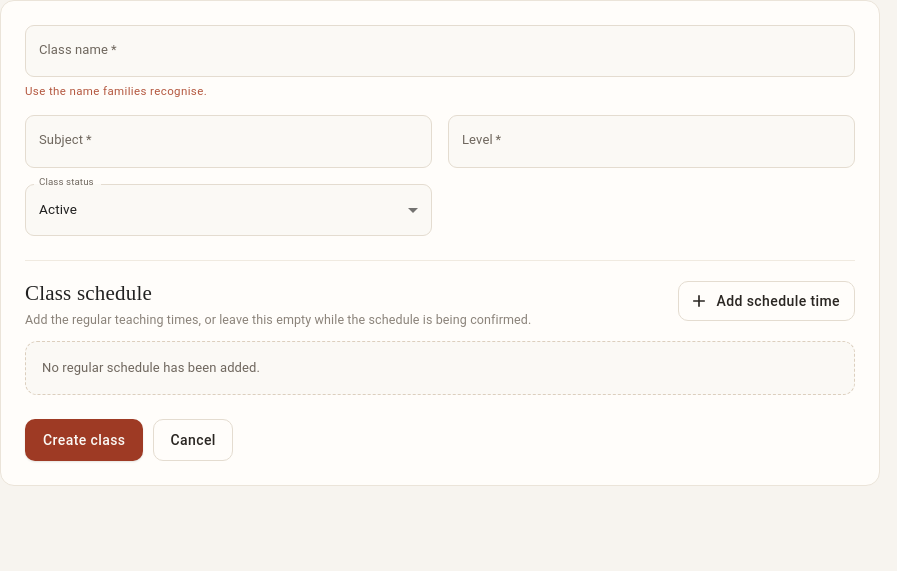
Scenario: ClassForm › shows field and request errors returned by the server
This screenshot has width=897, height=571.
In the field labelled "Class name": (440, 51) [25, 25, 855, 77], type " Primary 5 Science "
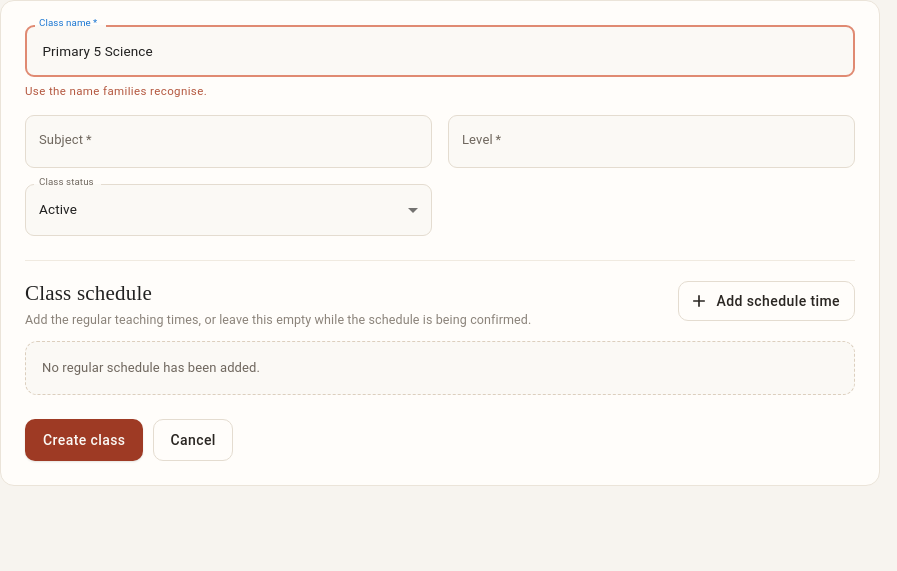
In the field labelled "Subject": (228, 141) [25, 115, 432, 168], type " Science "
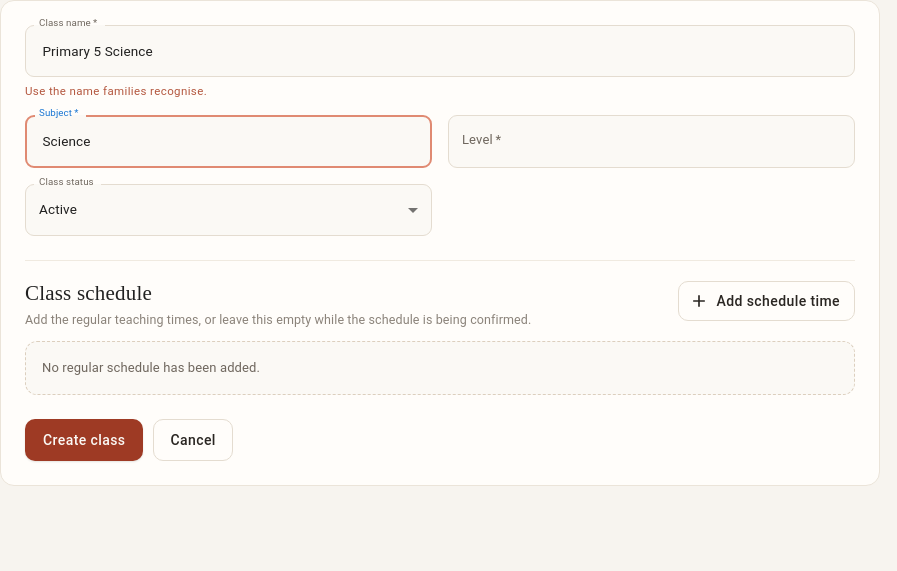
In the field labelled "Level": (652, 141) [448, 115, 855, 168], type " Primary 5 "
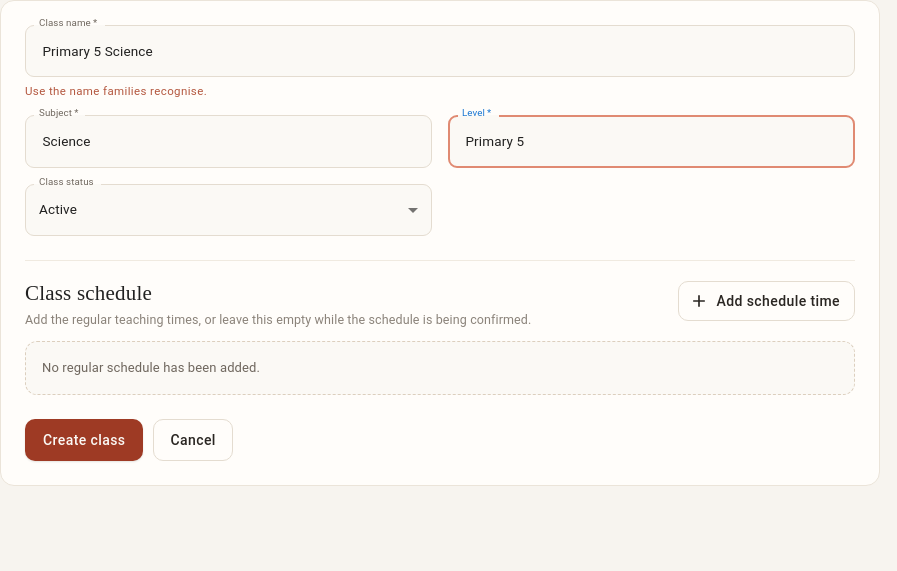
Click the button "Create class": (84, 440) [25, 419, 144, 461]
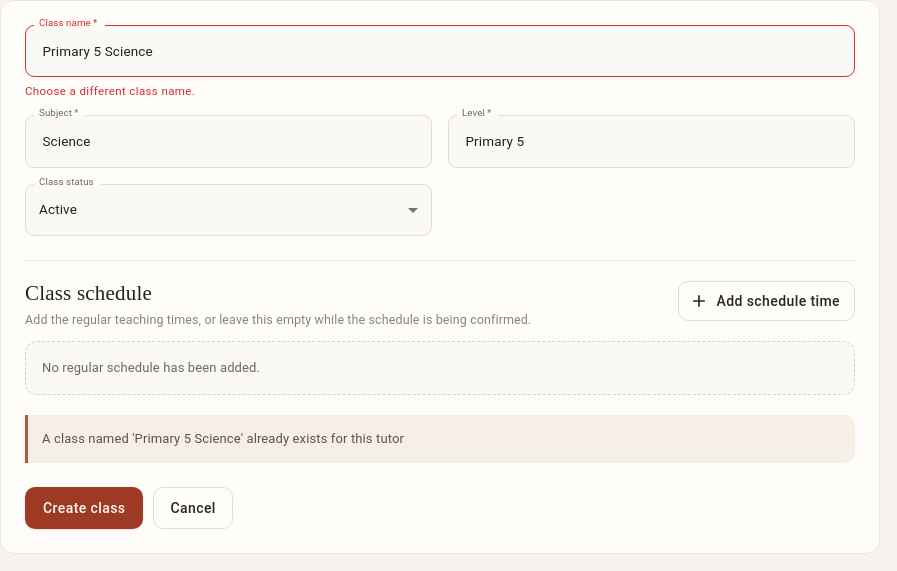
Expected: the message shows "already exists", [42, 431, 404, 446]
Expected: the text "Choose a different class name." is shown, [25, 84, 195, 98]
